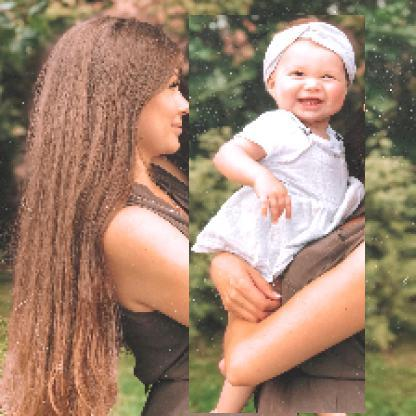child: (190, 16, 367, 415)
